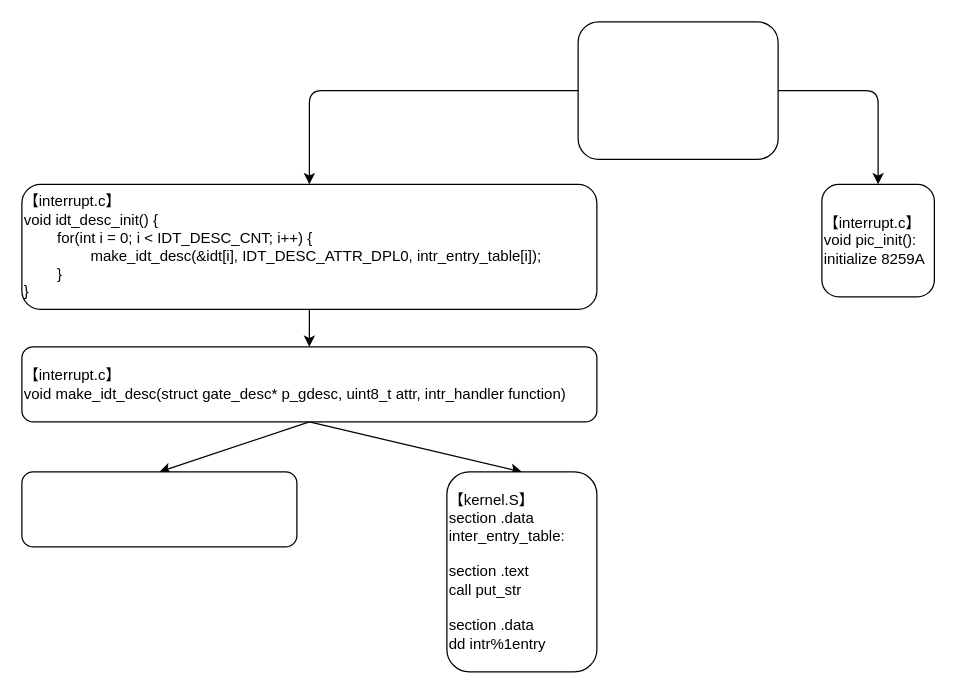
Image size: 956x694. Some labels were removed from this diagram. The shapes that lost their labels are listed below. From the top down, each one's centre as x and y in pixels, then its label:
(x=677, y=90): 【interrupt.c】 void idt_init() { idt_desc_init(); pic_init(); lidt 48位操作数 }
(x=159, y=509): 【interrupt.c】 struct gate_desc idt[IDT_DESC_CNT];
